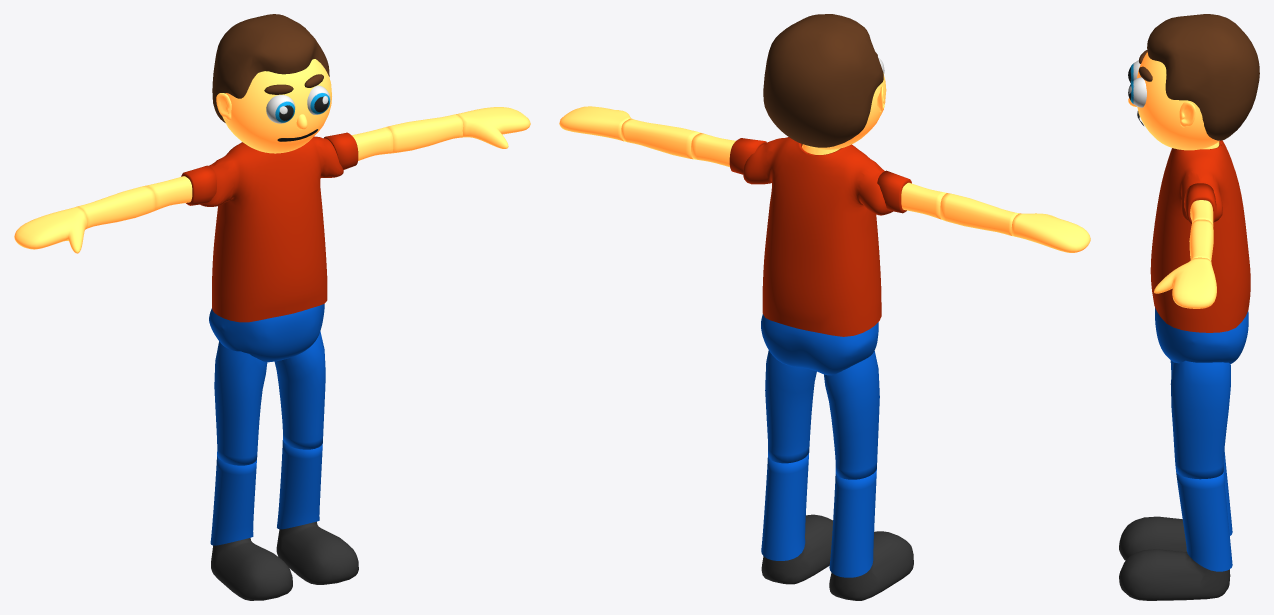
3 renders of one model, left to right at view 1: azimuth 30°, elevation 25°; view 2: azimuth 150°, elevation 25°; view 3: azimuth 270°, elevation 25°, orthographic. The views are drawn at different scales.
Visible parts, largest first — view 1: body, head, r_upper_leg, l_upper_leg, pelvis, r_foot, l_foot, r_leg, l_leg, r_hand, l_hand, r_arm (+3 smaller); view 2: body, head, r_upper_leg, l_upper_leg, r_leg, l_leg, pelvis, r_foot, l_foot, r_hand, r_forearm, r_arm (+3 smaller); view 3: head, body, l_upper_leg, l_foot, l_leg, pelvis, l_hand, r_foot, l_arm, l_forearm, r_leg.
Boxes of the visible parts, left/top/right/bottom form: body: left=200, top=136, right=343, bottom=322; head: left=212, top=14, right=331, bottom=153; r_upper_leg: left=214, top=341, right=267, bottom=465; l_upper_leg: left=274, top=331, right=325, bottom=449; pelvis: left=209, top=304, right=324, bottom=362; r_foot: left=211, top=537, right=292, bottom=600; l_foot: left=276, top=521, right=358, bottom=584; r_leg: left=210, top=456, right=256, bottom=545; l_leg: left=277, top=440, right=322, bottom=529; r_hand: left=14, top=206, right=87, bottom=253; l_hand: left=456, top=107, right=530, bottom=148; r_arm: left=146, top=165, right=216, bottom=211; body: left=743, top=137, right=892, bottom=336; head: left=763, top=14, right=886, bottom=149; r_upper_leg: left=824, top=351, right=879, bottom=479; l_upper_leg: left=765, top=350, right=816, bottom=463; r_leg: left=829, top=469, right=876, bottom=577; l_leg: left=761, top=452, right=809, bottom=560; pelvis: left=761, top=314, right=878, bottom=375; r_foot: left=829, top=531, right=913, bottom=600; l_foot: left=761, top=514, right=832, bottom=584; r_hand: left=1011, top=213, right=1090, bottom=252; r_forearm: left=940, top=193, right=1019, bottom=235; r_arm: left=877, top=170, right=946, bottom=219; head: left=1128, top=14, right=1259, bottom=150; body: left=1150, top=140, right=1250, bottom=332; l_upper_leg: left=1170, top=360, right=1230, bottom=479; l_foot: left=1119, top=549, right=1230, bottom=600; l_leg: left=1176, top=471, right=1232, bottom=571; pelvis: left=1155, top=307, right=1248, bottom=363; l_hand: left=1154, top=257, right=1216, bottom=308; r_foot: left=1119, top=516, right=1186, bottom=560; l_arm: left=1184, top=183, right=1216, bottom=226; l_forearm: left=1189, top=219, right=1213, bottom=262; r_leg: left=1223, top=449, right=1232, bottom=535.
Bounding box in the file's own units: 3.19 × 3.27 × 0.752.
7 materials, 2 textured.
